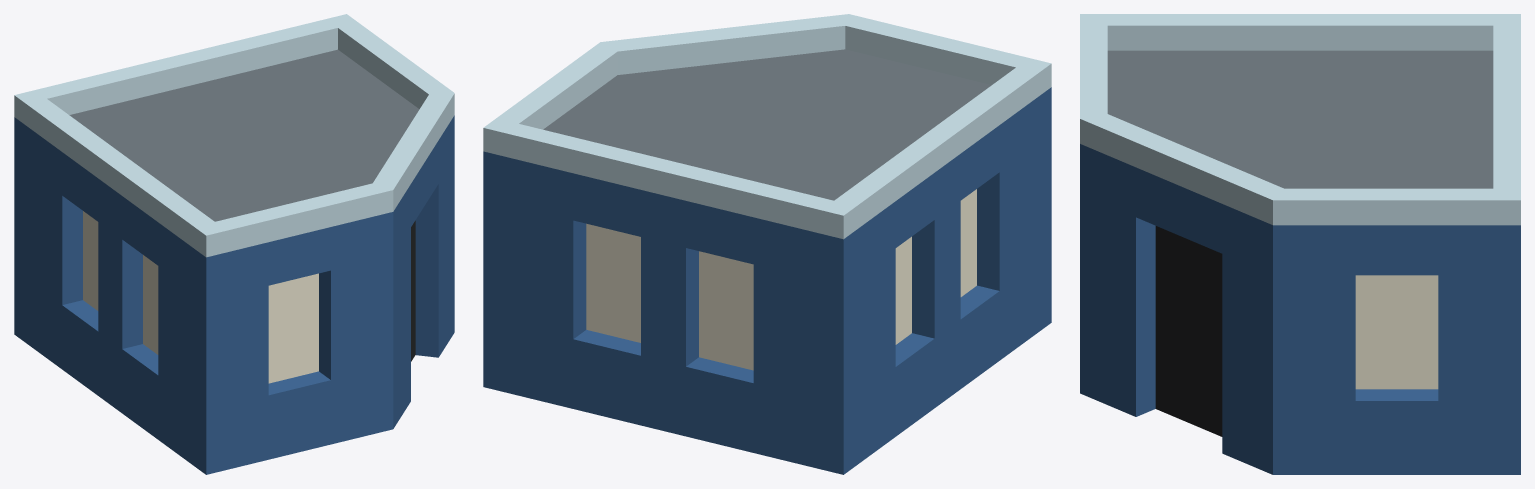
The model's file is Building_10 (Blue).obj.
The picture shows the model from 3 angles, left to right: view 1: azimuth 30°, elevation 25°; view 2: azimuth 150°, elevation 25°; view 3: azimuth 270°, elevation 25°; orthographic projection. The views are drawn at different scales.
Parts seen in each view (by area): view 1: Building_10_(Blue); view 2: Building_10_(Blue); view 3: Building_10_(Blue).
Boxes of the visible parts, x1,y1,x2,y2 form: Building_10_(Blue): (14, 14, 454, 474); Building_10_(Blue): (483, 14, 1051, 474); Building_10_(Blue): (1080, 14, 1520, 474).
Bounding box in the file's own units: 1.6 × 1.1 × 1.6.
